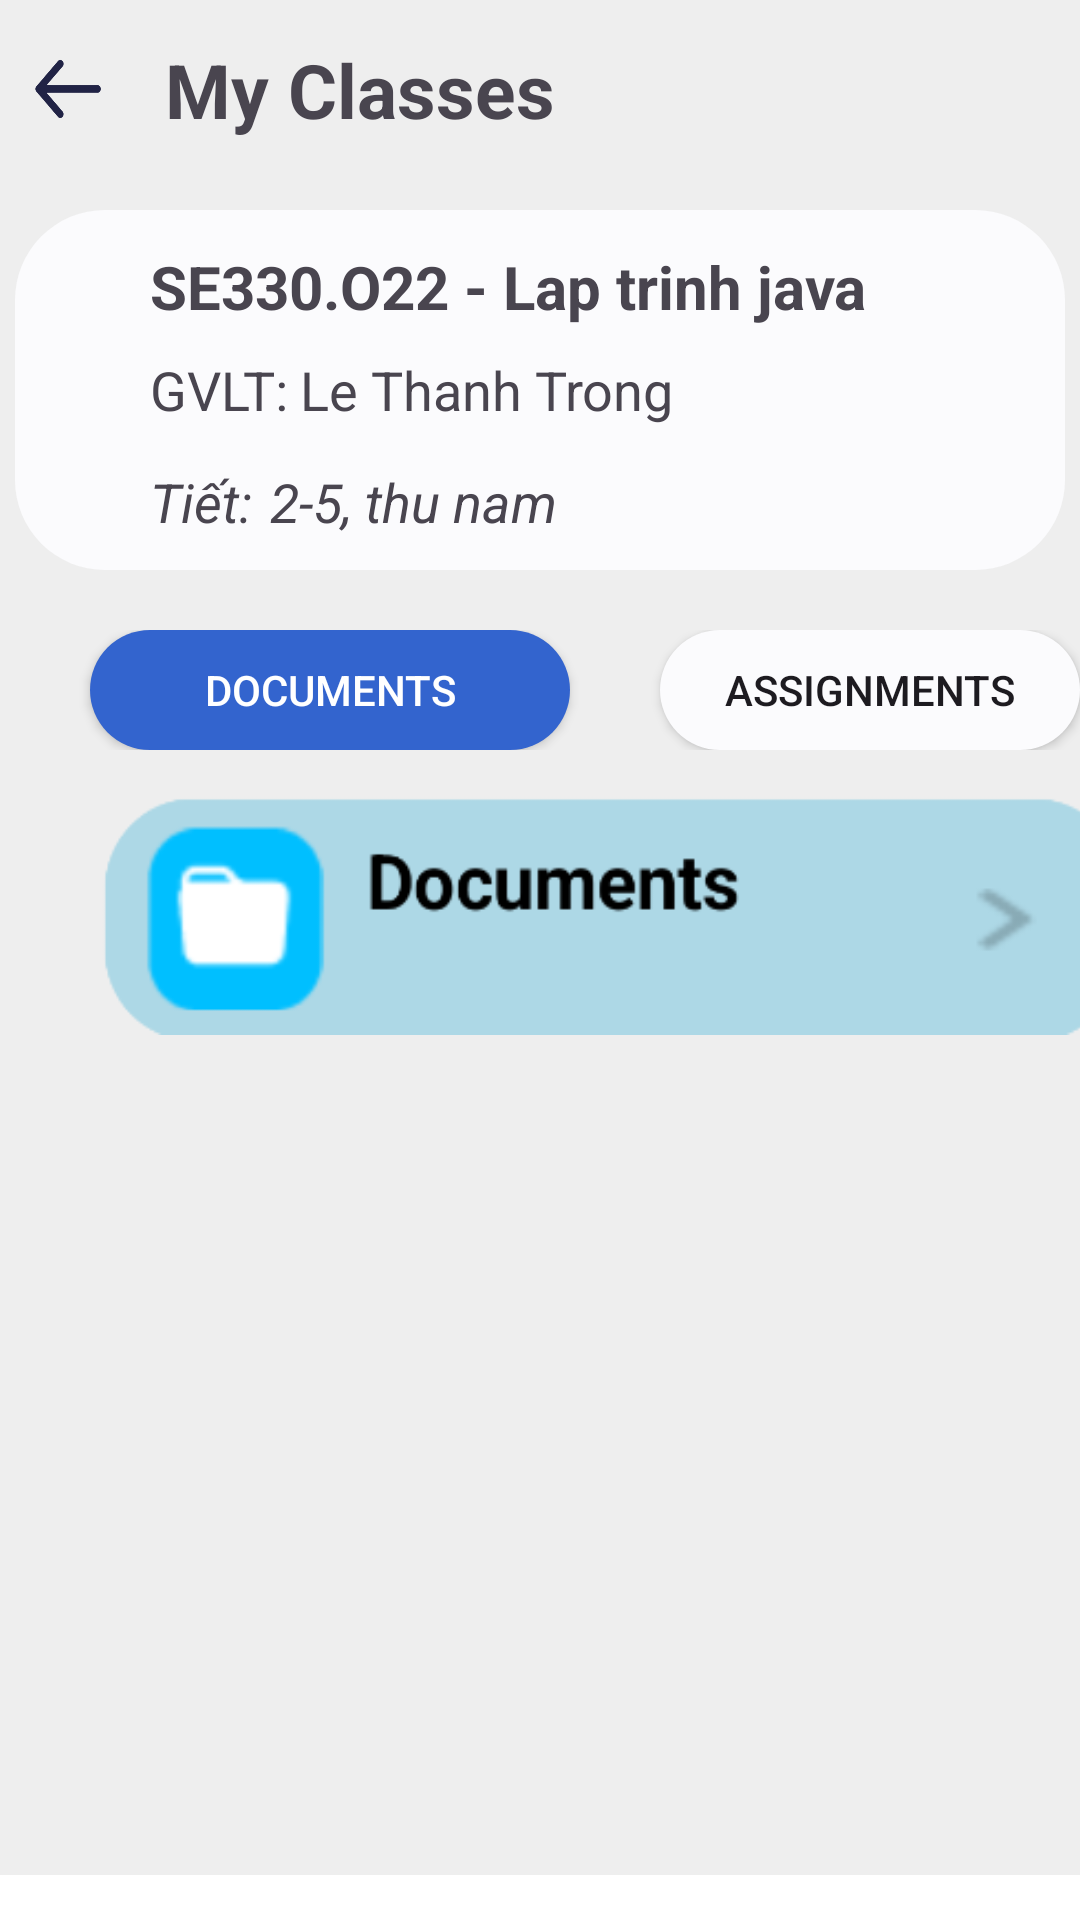

Where to tap for icons on this 1080x1920 app screen, as (x=x, y=y):
back: (x=68, y=89)
